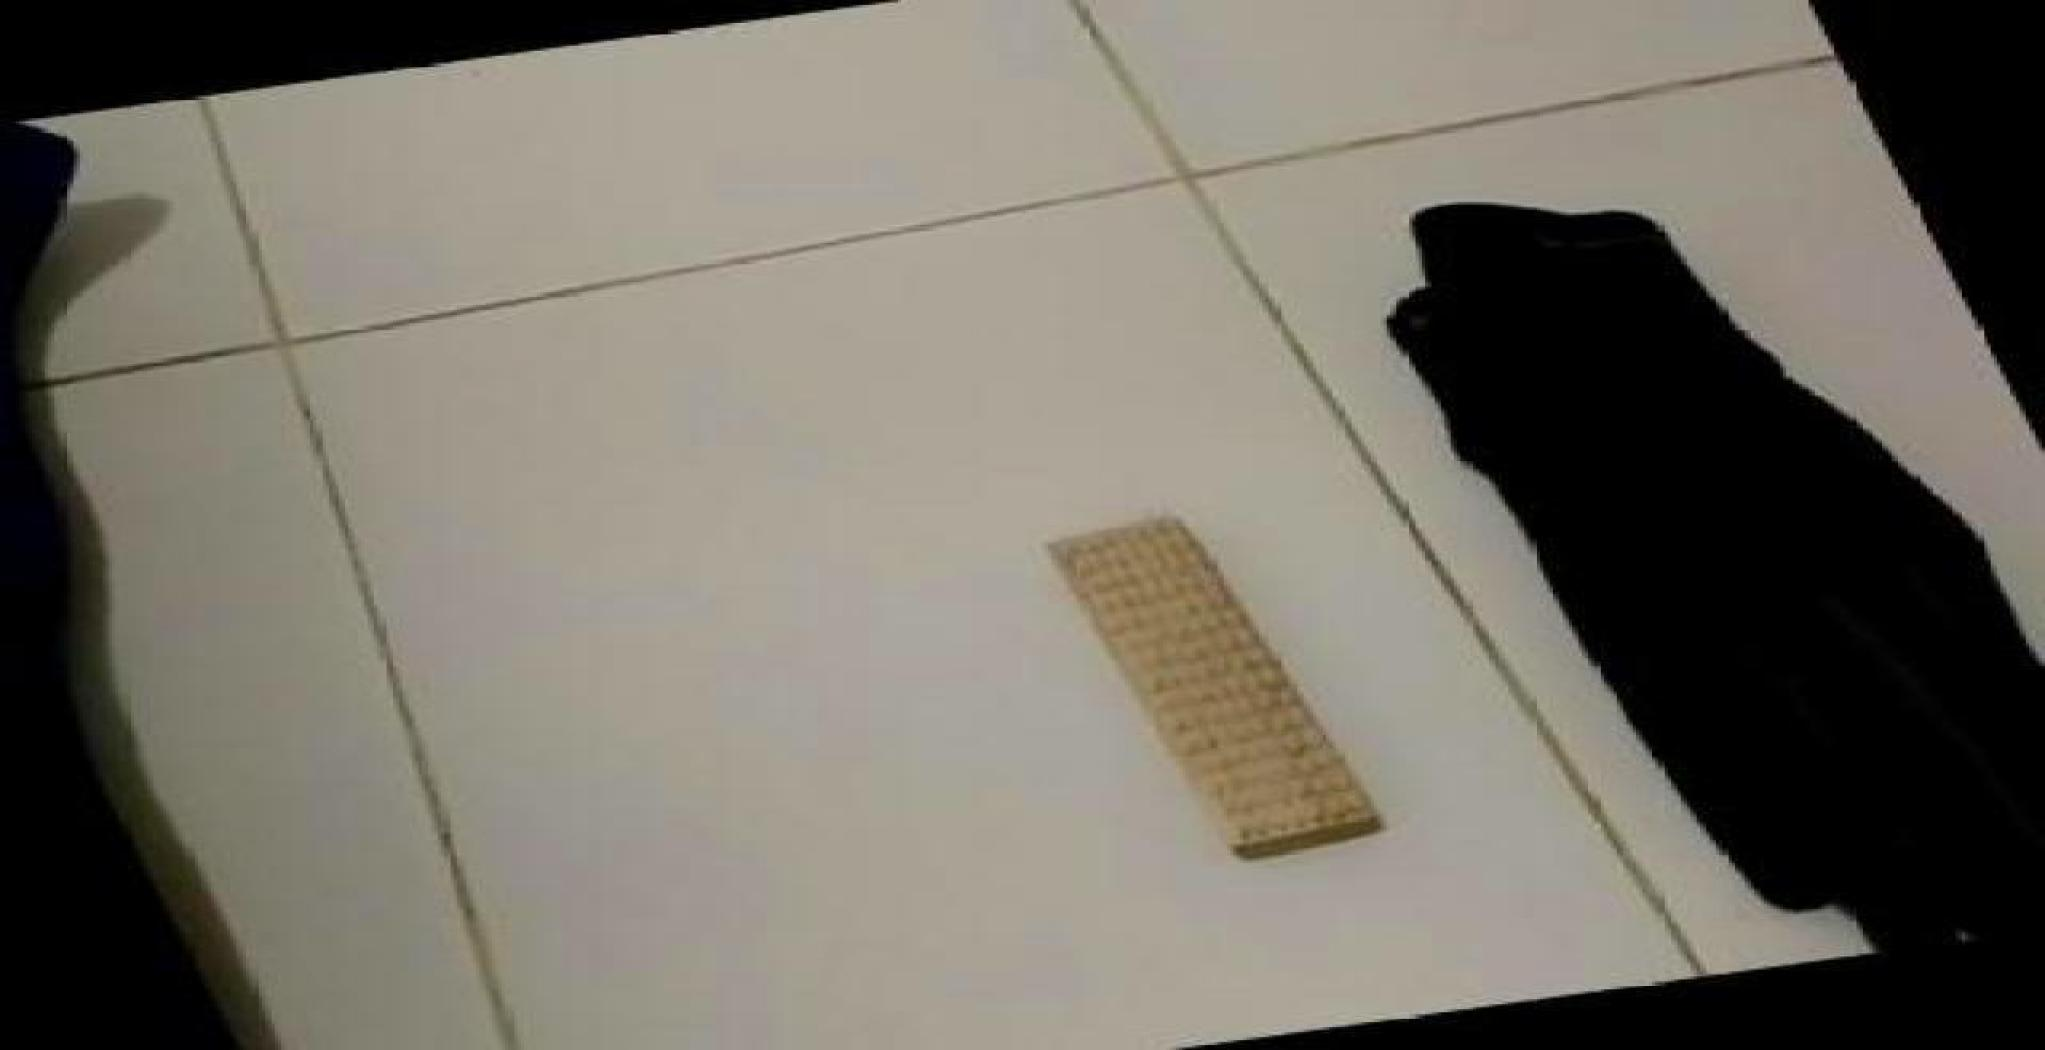gloved: (1377, 197, 2042, 955)
